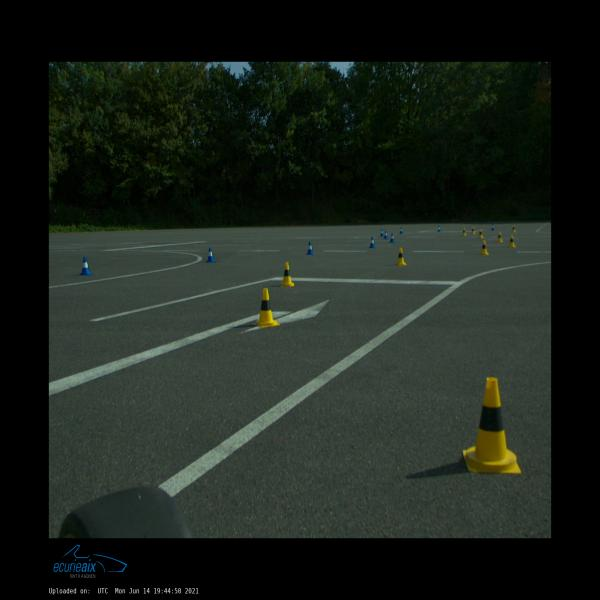blue_cone: (79, 256, 92, 276), (206, 247, 216, 263), (306, 241, 314, 255), (369, 236, 375, 248), (389, 233, 395, 243), (384, 231, 388, 239), (380, 228, 384, 236), (399, 227, 403, 234), (437, 226, 441, 232), (491, 224, 494, 230)
yellow_cone: (462, 377, 522, 474), (253, 288, 280, 327), (281, 262, 295, 286), (396, 248, 408, 265), (480, 240, 488, 255), (508, 235, 516, 248), (497, 232, 503, 242), (471, 226, 476, 234), (478, 230, 483, 238), (462, 228, 467, 236), (512, 225, 516, 232)
